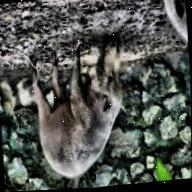boar: (27, 33, 131, 184)
